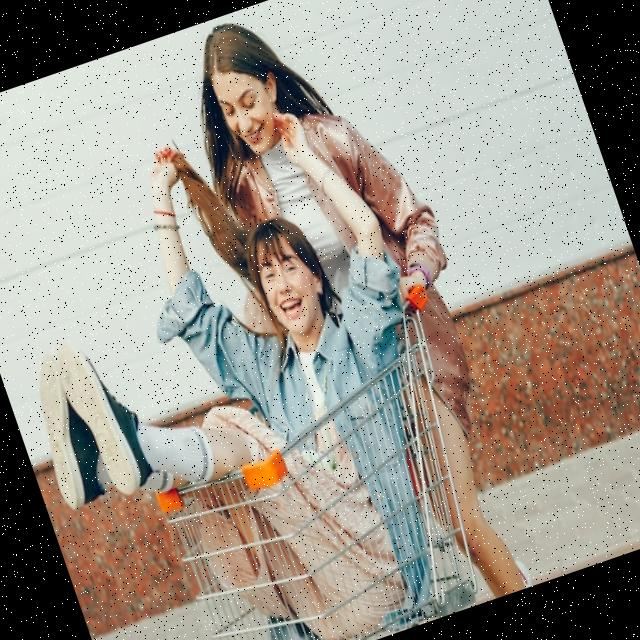Person: (0, 86, 510, 640), (134, 0, 559, 640)
